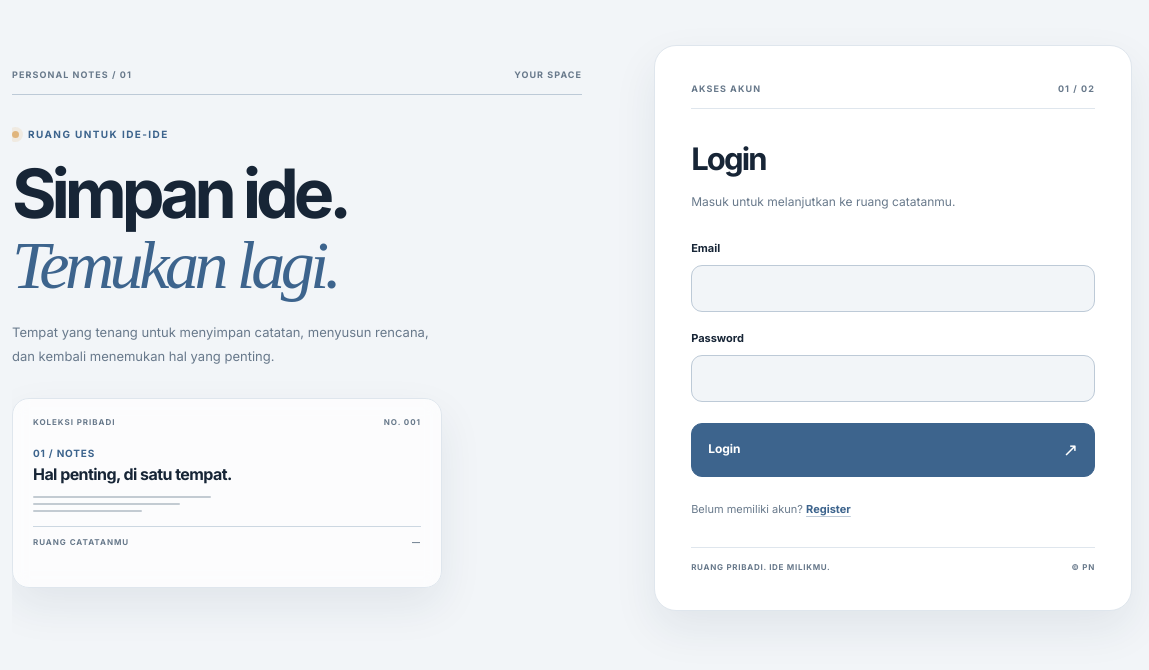
authentication pages › does not report login success when the signed-in user cannot be verified
Type "user@example.com" into the field labelled "Email".
click(893, 288); type("user@example.com")  # box [691, 265, 1095, 312]
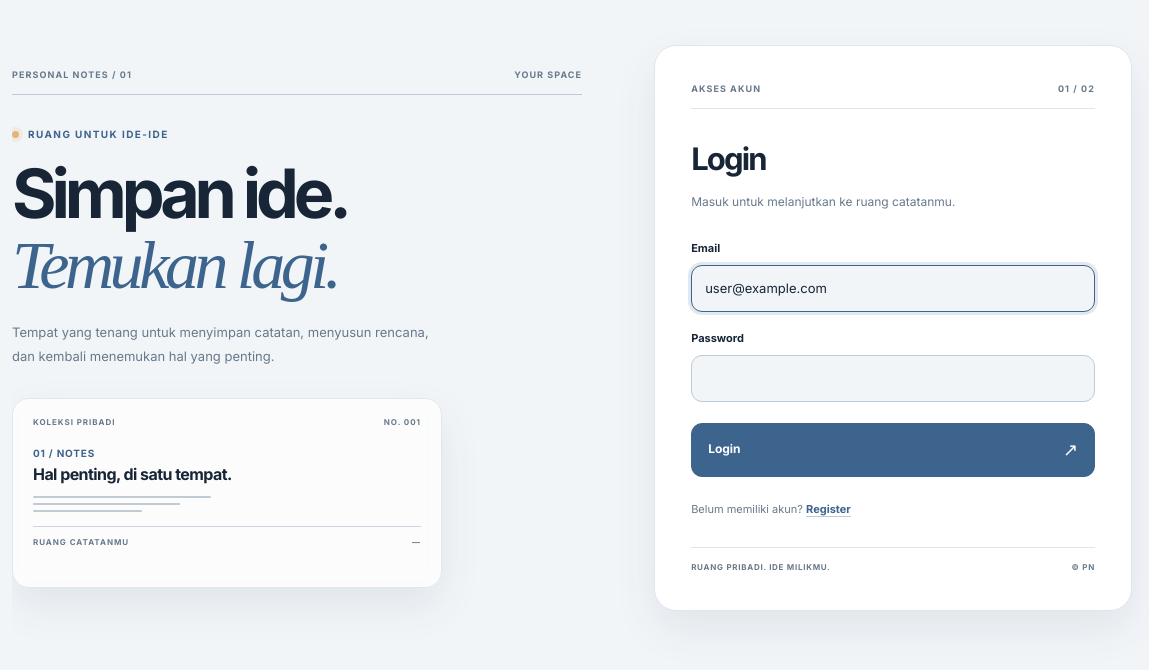
Type "secret123" into the password field labelled "Password".
click(893, 378); type("secret123")  # box [691, 355, 1095, 402]
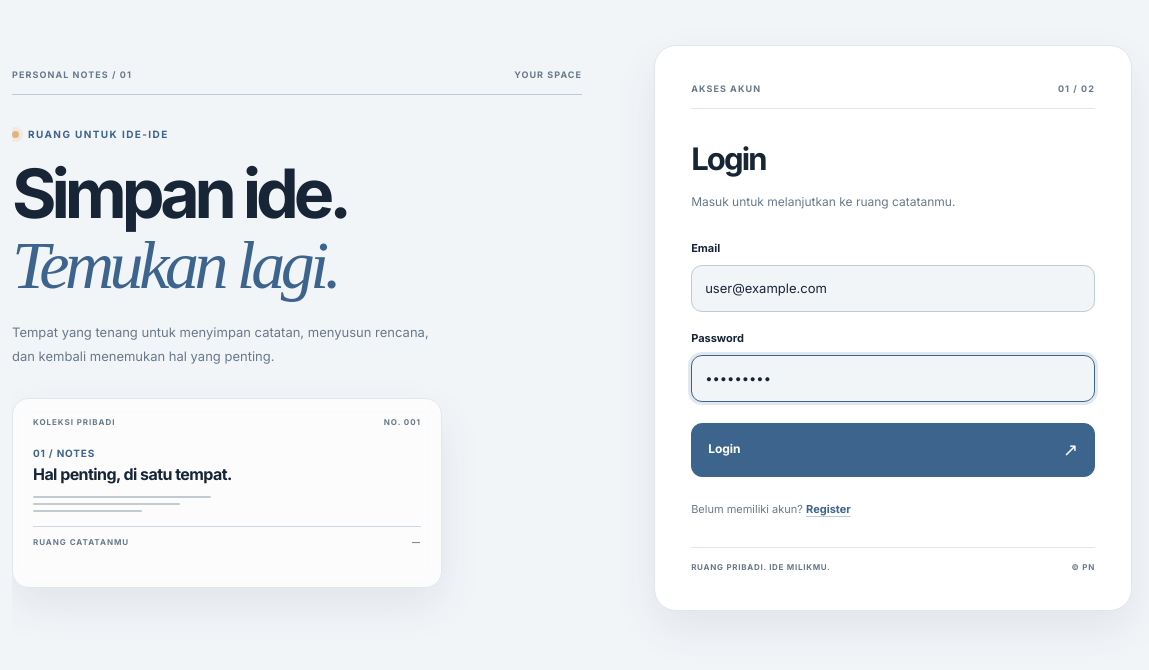
Click the button "Login ↗".
click(724, 449)  # box [691, 423, 1095, 477]
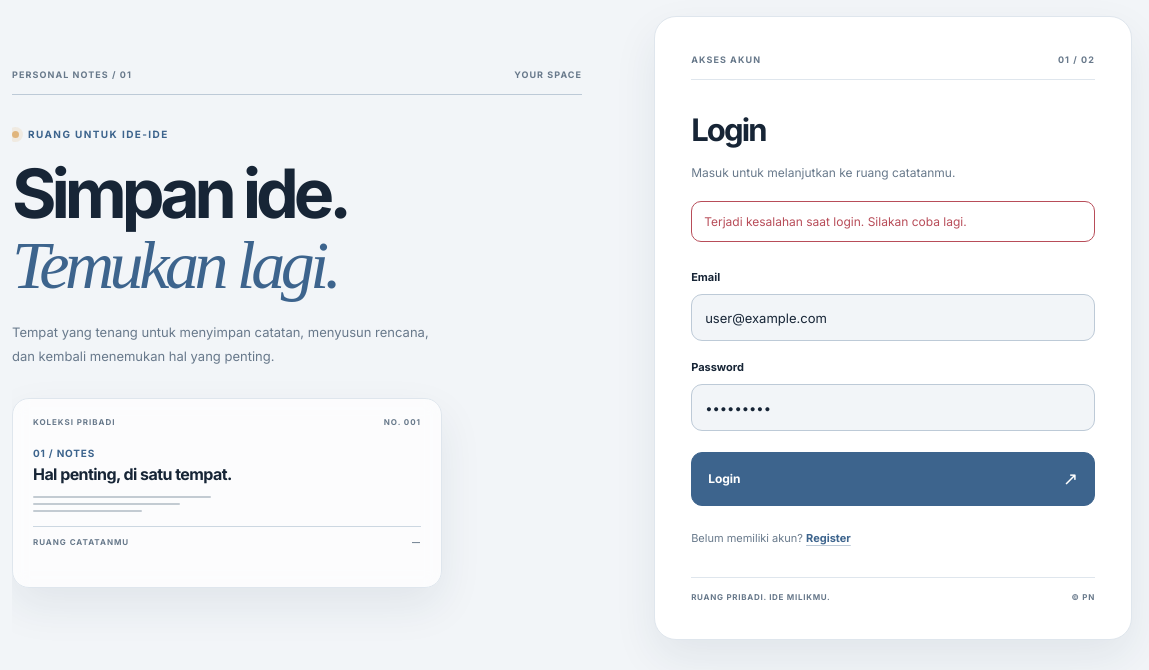
Expected: the message reads "Terjadi kesalahan saat login. Silakan coba lagi.", [704, 214, 967, 229]
